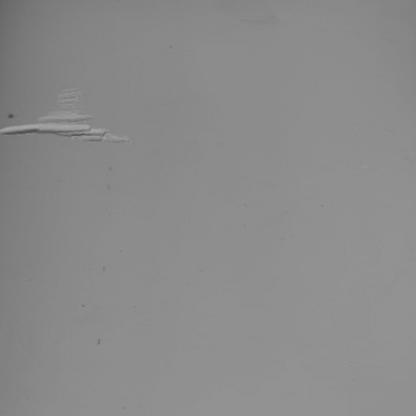sunshang: (2, 83, 129, 147)
